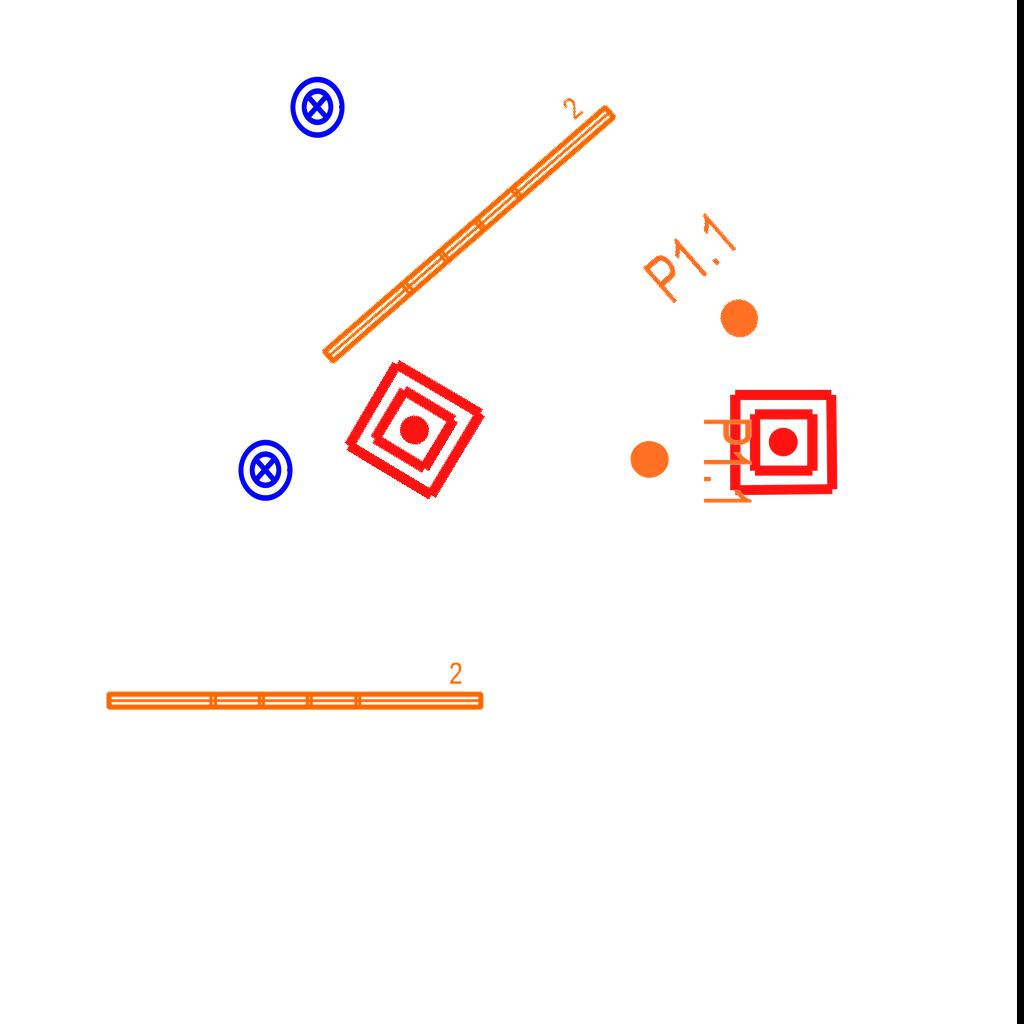Ambulanz_Pendelleuchte_LED: (296, 76, 625, 374), (101, 660, 488, 716)
Downlight_LED_Einbauleuchten_Flur: (637, 206, 792, 364), (627, 416, 755, 509)
NAM-Nichtautomatischer_Melder: (336, 351, 493, 508), (727, 386, 840, 499)
Taster_beleuchtet: (284, 74, 350, 140), (232, 437, 298, 503)
